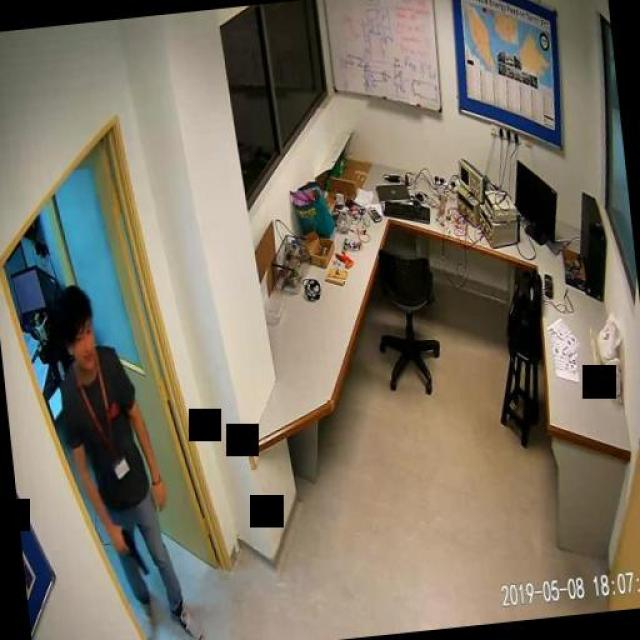gun: (118, 525, 148, 579)
